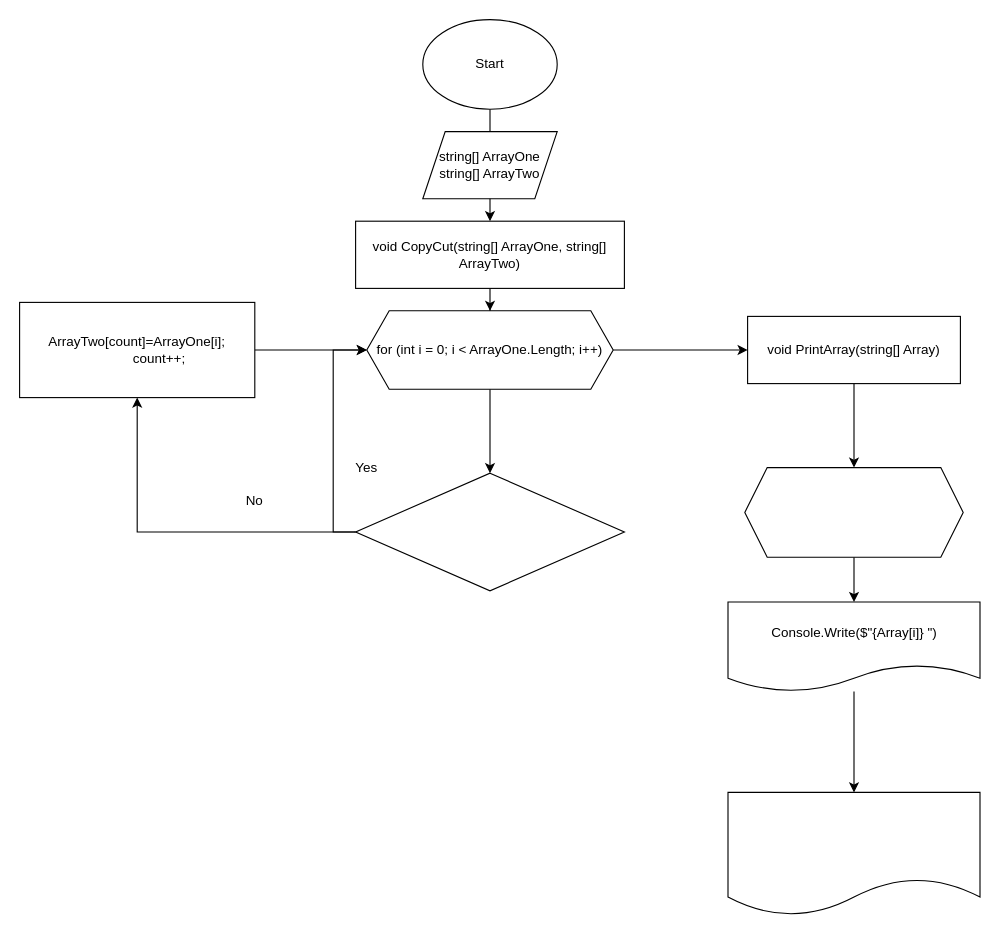
Image size: 1000x935. Some labels were removed from this diagram. Here are the shapes that lost their labels. From the top down, the box of each, then its label:
(354, 472, 624, 591): if(ArrayOne[i].Length<=3)
(744, 466, 963, 557): for (int i = 0; i < Array.Length; i++)
(727, 791, 980, 916): CopyCut(ArrayOne,ArrayTwo); PrintArray(ArrayOne); PrintArray(ArrayTwo);
